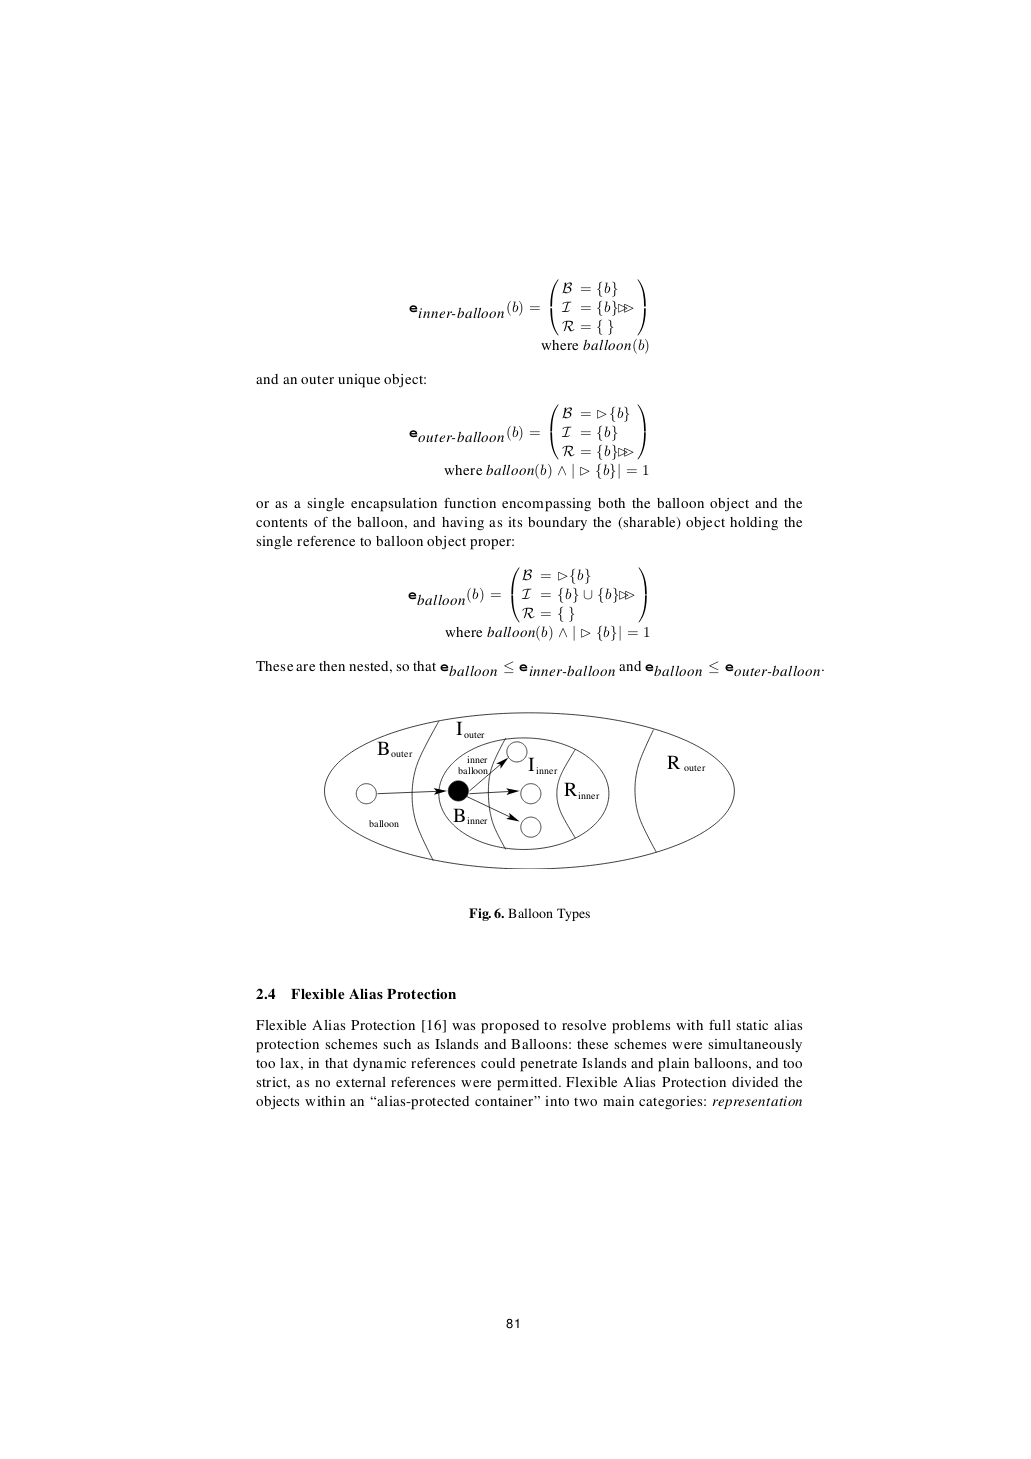figure: (324, 711, 734, 869)
formula: (408, 566, 649, 641), (409, 278, 645, 336), (409, 403, 645, 460)
